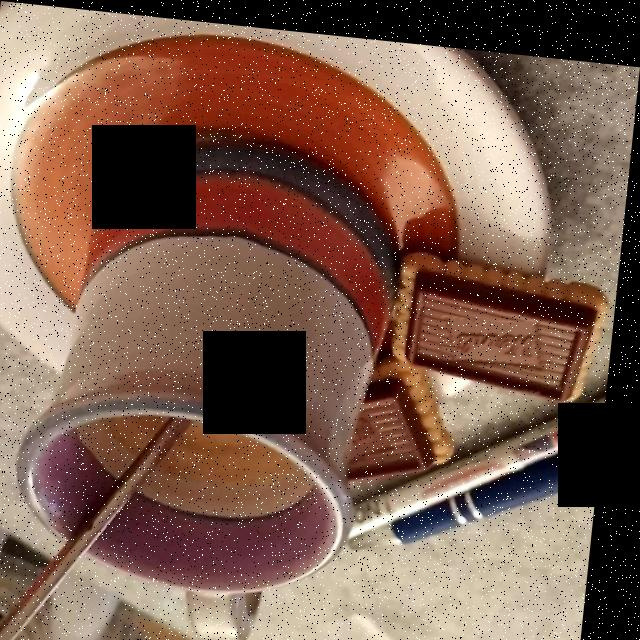coffee-with-caffeine: (114, 420, 294, 478)
